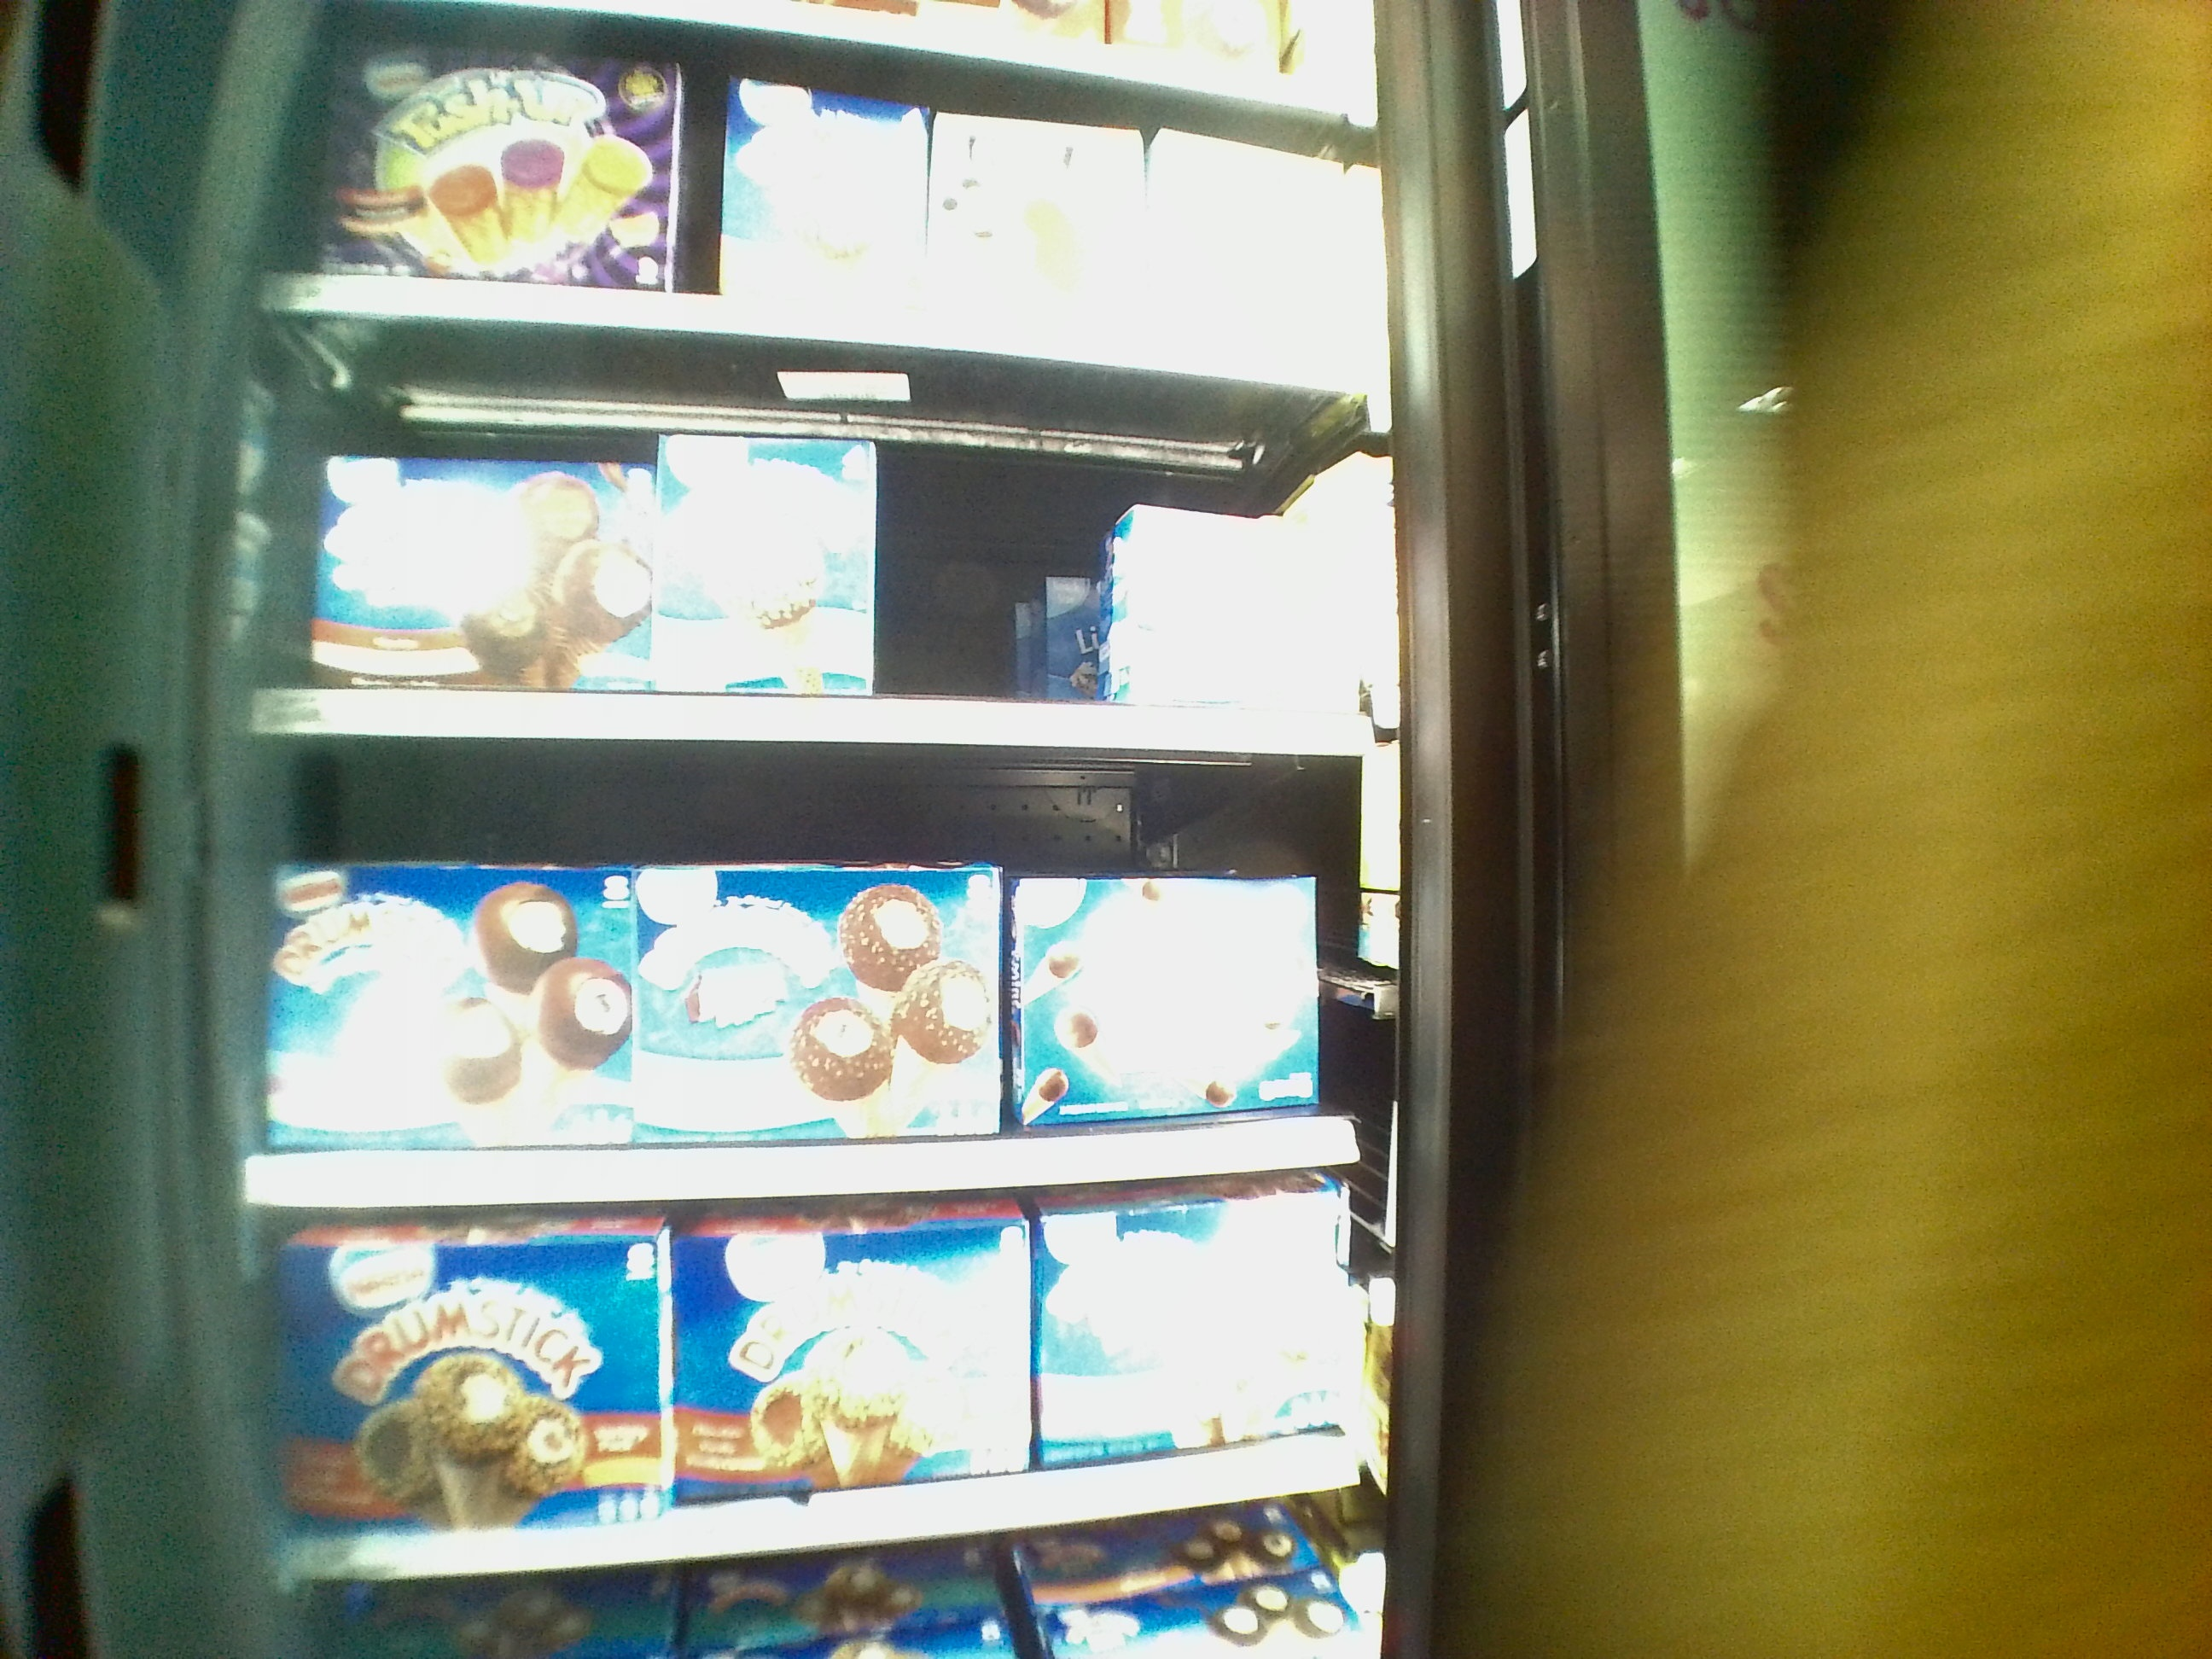shelf: (249, 781, 1402, 1190), (268, 375, 1390, 769), (261, 1197, 1376, 1565), (289, 54, 1379, 380)
